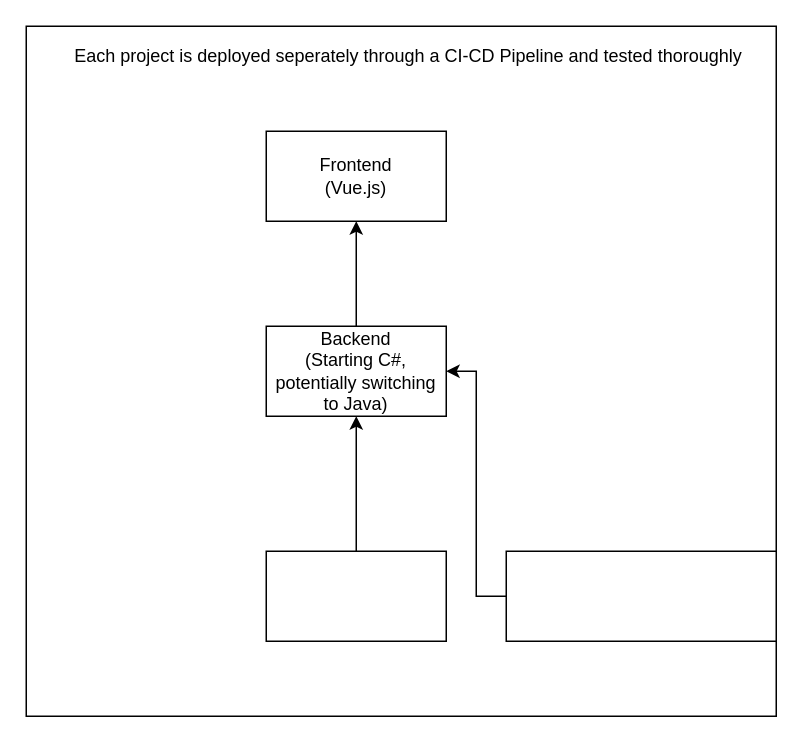
This 803x743 diagram has some shape labels left out. Here are the shapes that lost their labels. From the top down, the centre of each, then its label:
(355,595): NASA Api's
(640,595): Custom API to Database (Login info) SQL
